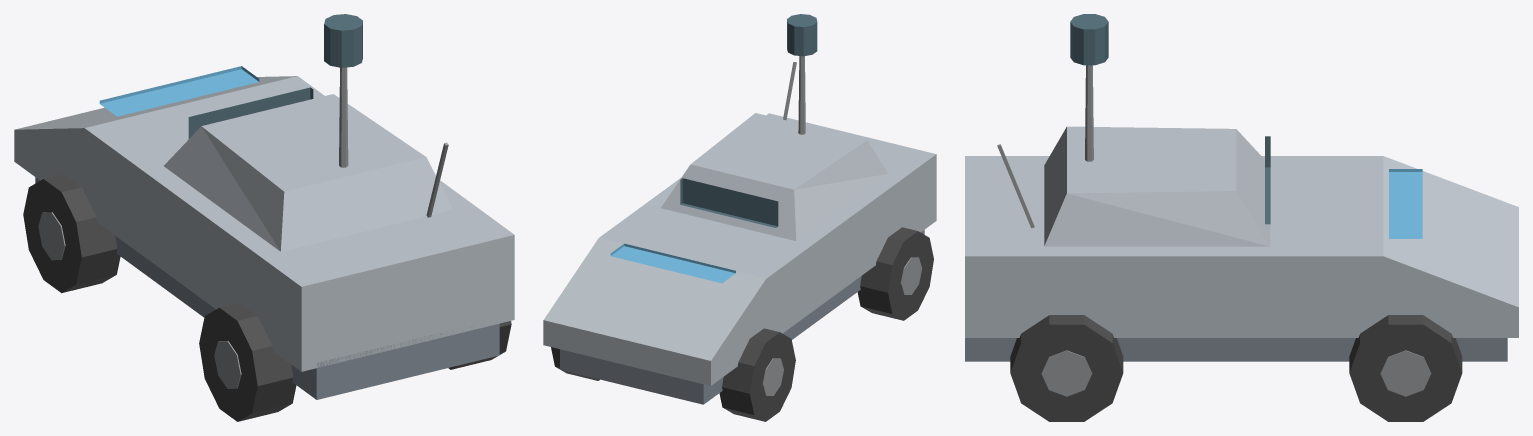
Rendered from elite_scout_car.glb.
3 renders of one model, left to right at view 1: azimuth 30°, elevation 25°; view 2: azimuth 150°, elevation 25°; view 3: azimuth 270°, elevation 25°, orthographic. The views are drawn at different scales.
Parts seen in each view (by area): view 1: elite_scout_car; view 2: elite_scout_car; view 3: elite_scout_car.
Part boxes in pixels (box(x1,y1,x2,y2)): elite_scout_car: box(14, 14, 514, 421); elite_scout_car: box(543, 14, 936, 421); elite_scout_car: box(965, 14, 1518, 421).
Size of the model in its own units: 2.52 by 3.33 by 4.9.
